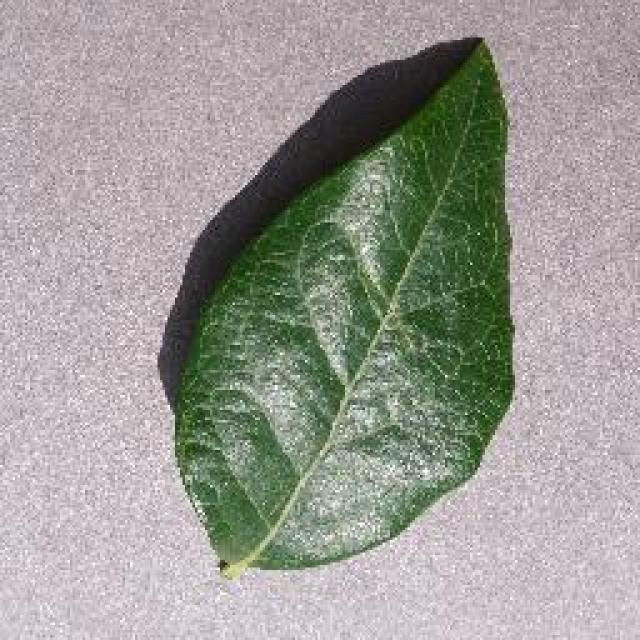Blu_healthy: (210, 144, 515, 488)
